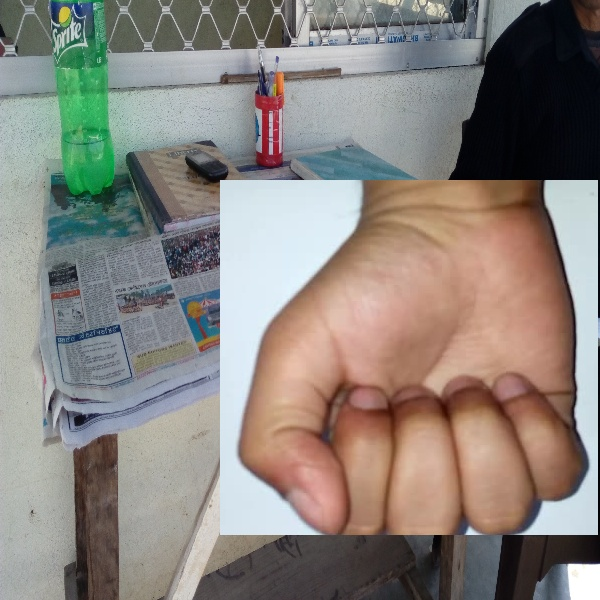A: (220, 180, 598, 535)
